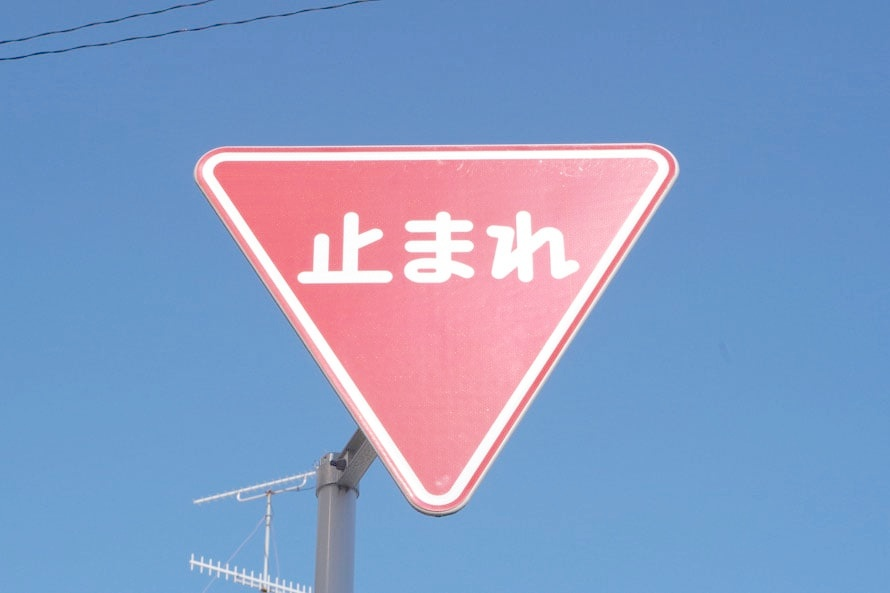Regulatory_sign_triangle: (189, 134, 686, 521)
